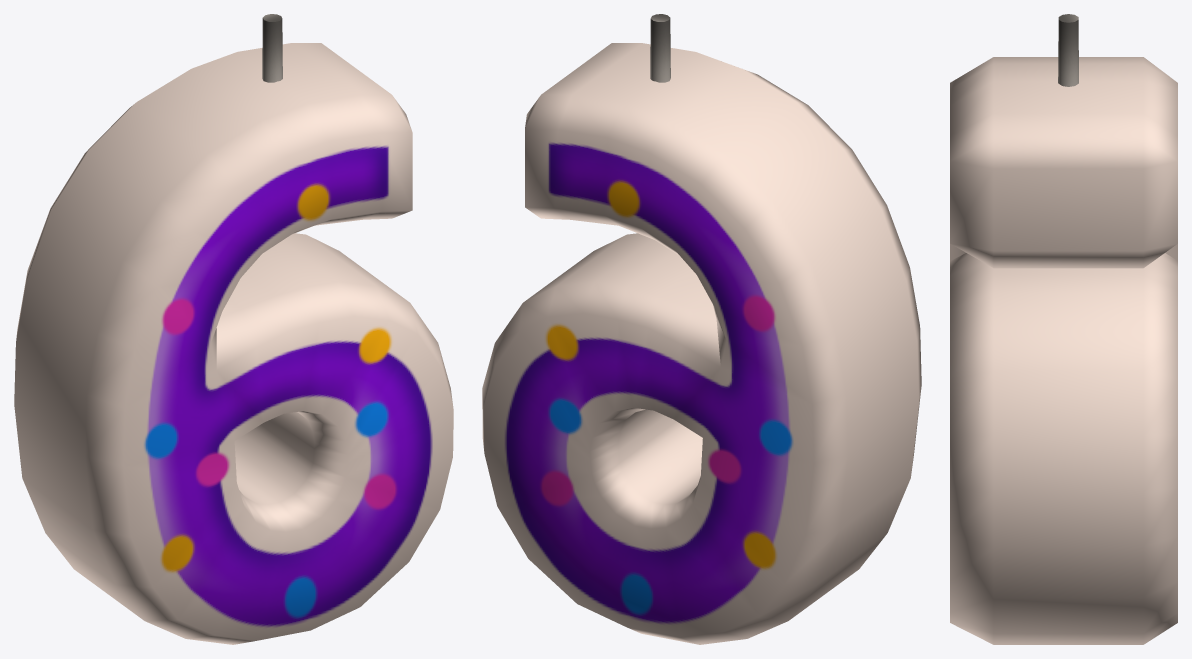
File: Candle_6.fbx
3 renders of one model, left to right at view 1: azimuth 30°, elevation 25°; view 2: azimuth 150°, elevation 25°; view 3: azimuth 270°, elevation 25°, orthographic. The views are drawn at different scales.
Parts seen in each view (by area): view 1: Candle_6; view 2: Candle_6; view 3: Candle_6.
Boxes of the visible parts, x1=… form: Candle_6: x1=14, y1=14, x2=453, y2=644; Candle_6: x1=482, y1=14, x2=921, y2=644; Candle_6: x1=950, y1=14, x2=1177, y2=644.
Bounding box in the file's own units: 19.95 × 30.52 × 10.17.
